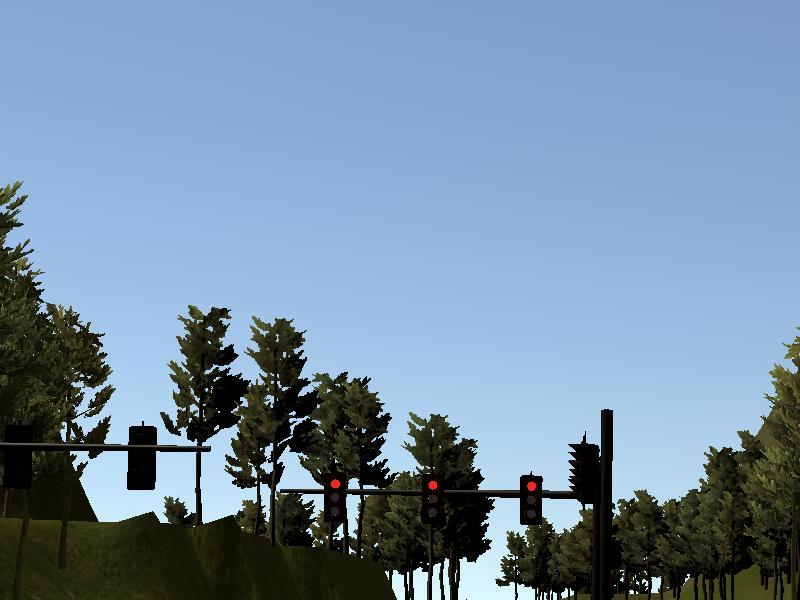Red: (325, 472, 345, 522), (423, 477, 443, 524), (522, 477, 541, 523)
